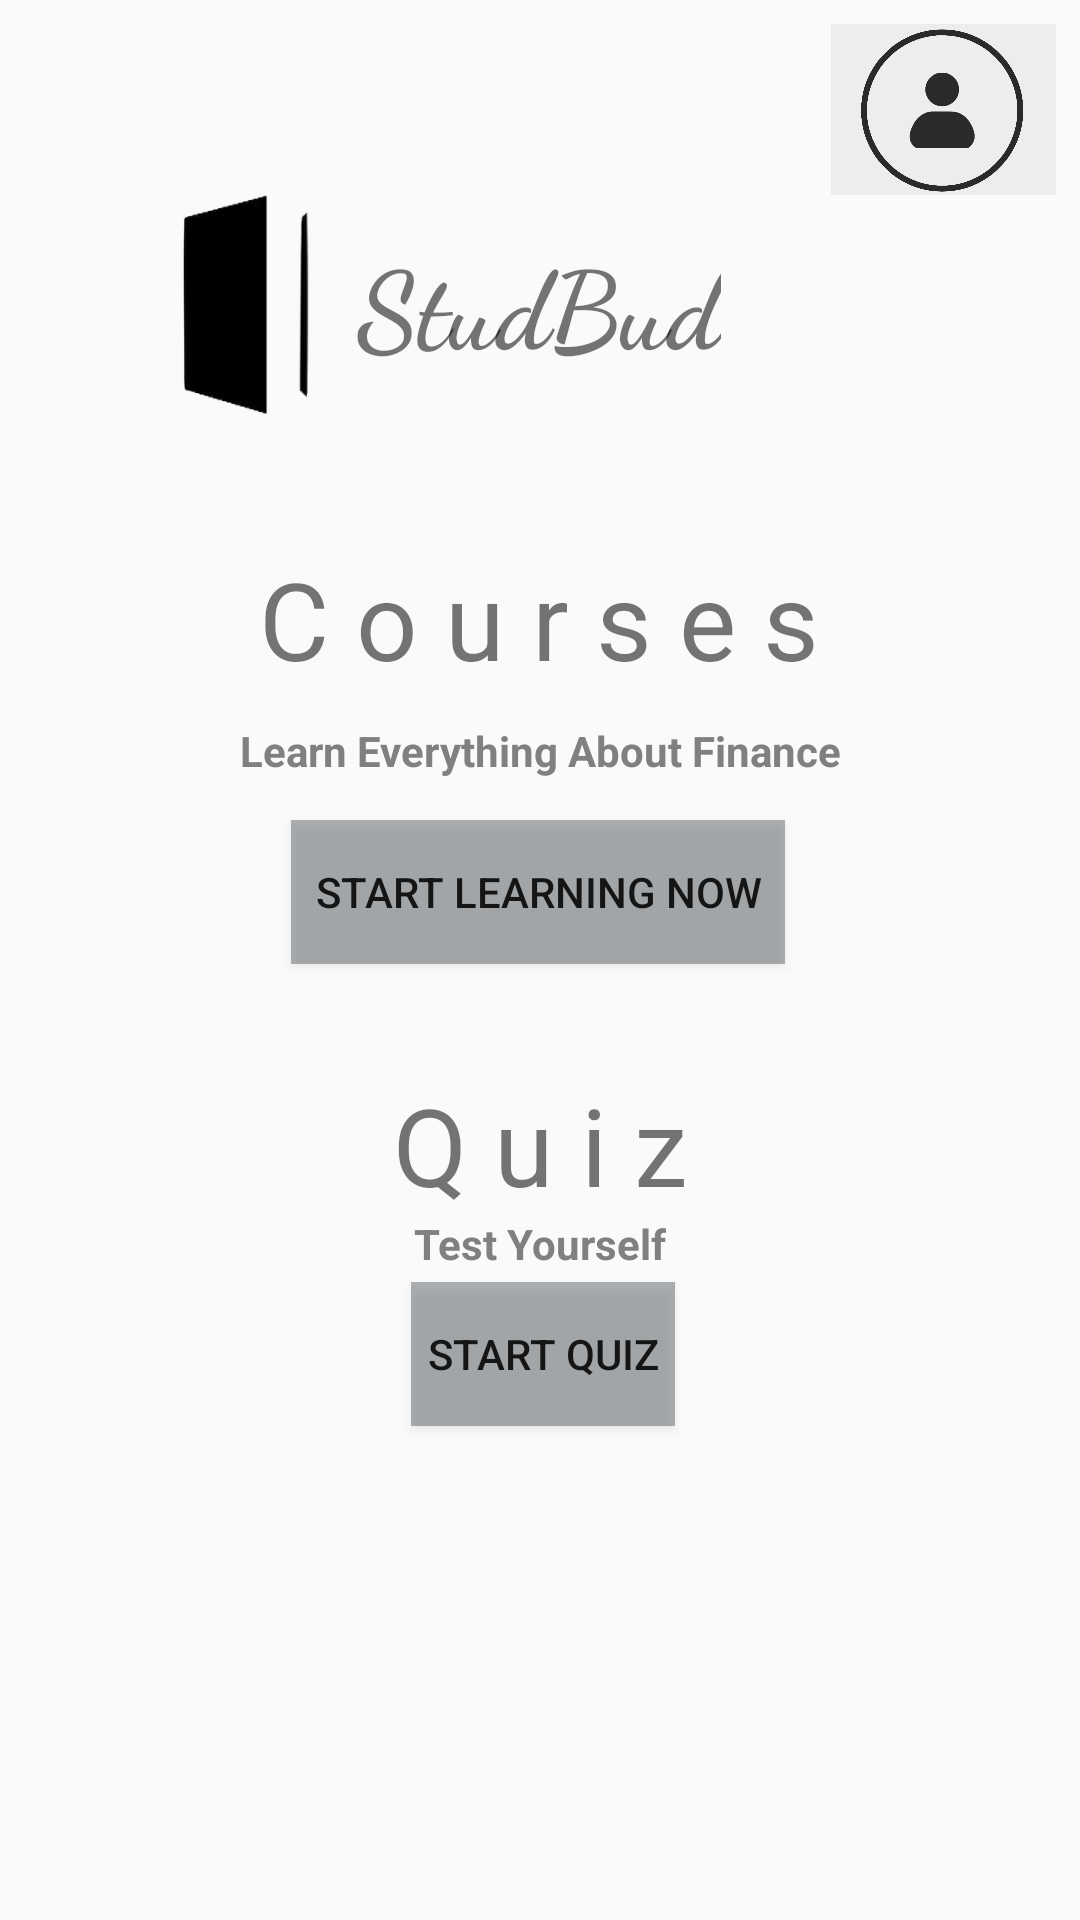

Icons on this 1080w x 1920h Android screen, each with its box as region(x1, y1, x2, y2):
Profile Button: region(831, 24, 1056, 195)
